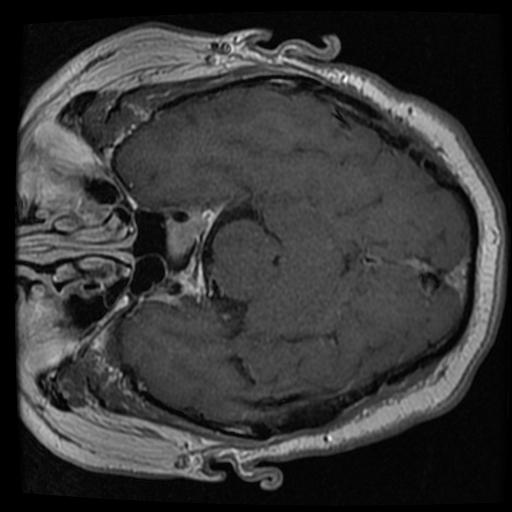pituitary tumour: (164, 211, 214, 257)
